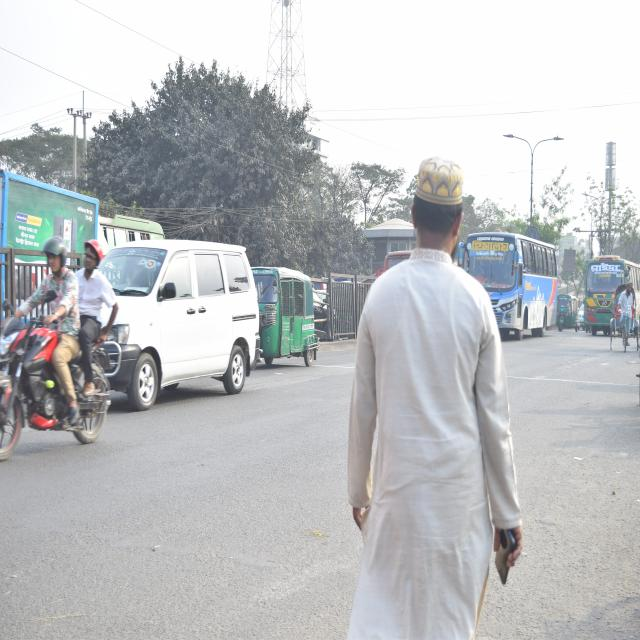bus: (466, 228, 556, 338), (586, 255, 640, 339)
car: (101, 240, 256, 395)
motorbike: (0, 300, 111, 471)
